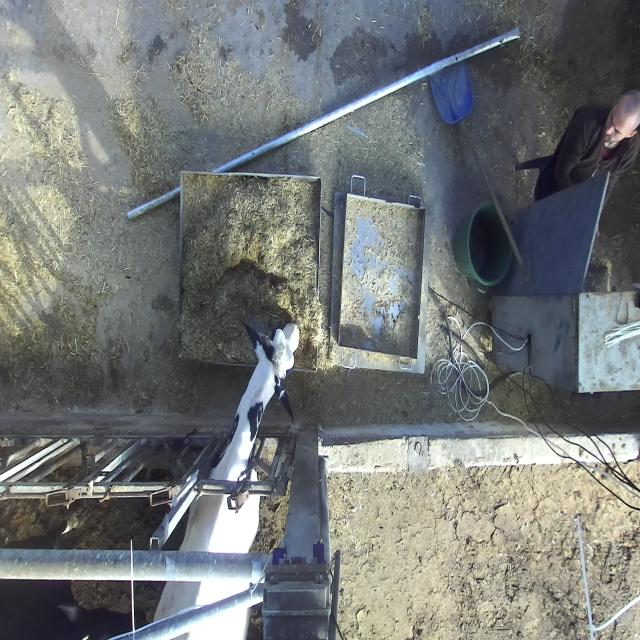cow: (244, 311, 300, 423)
